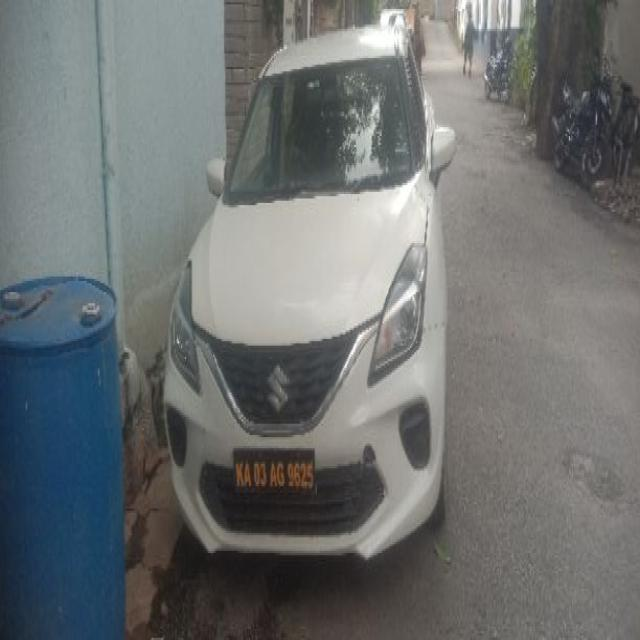license_plate: (231, 444, 317, 499)
